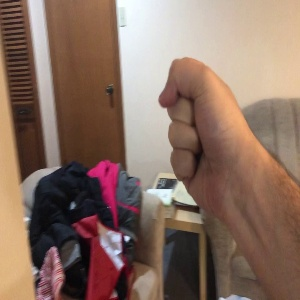hand: (159, 57, 250, 217)
